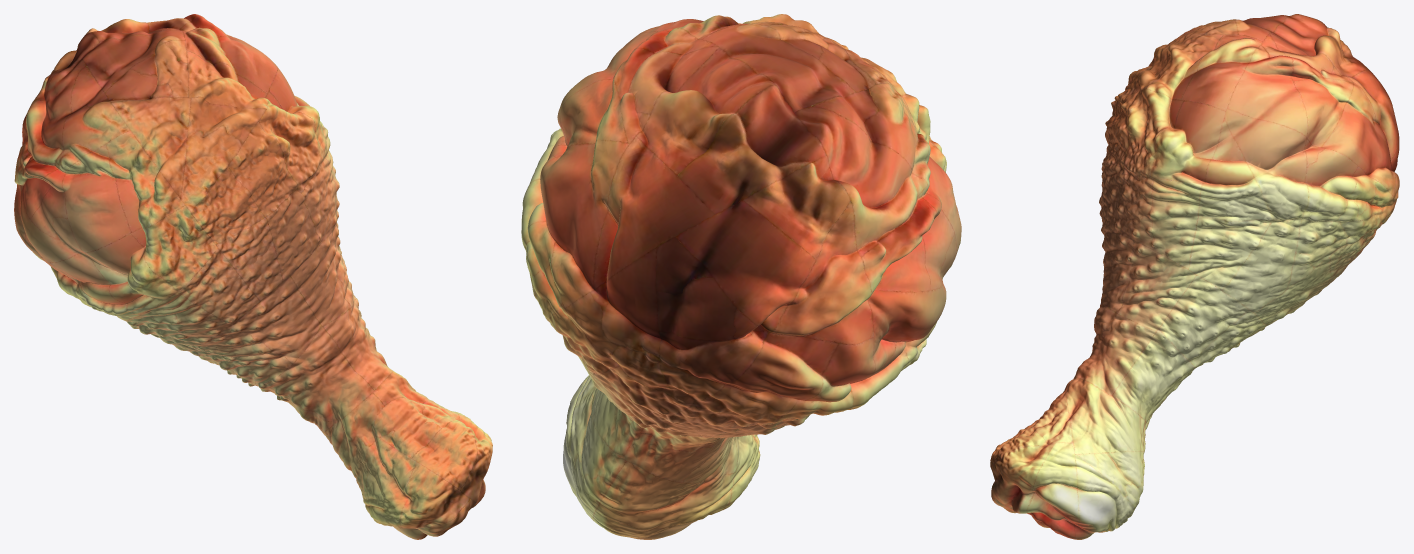
The model's file is chicken.glb.
3 renders of one model, left to right at view 1: azimuth 30°, elevation 25°; view 2: azimuth 150°, elevation 25°; view 3: azimuth 270°, elevation 25°, orthographic. The views are drawn at different scales.
Visible parts, largest first — view 1: raw; view 2: raw; view 3: raw.
Boxes of the visible parts, box(x1,y1,x2,y2) form: raw: box(14, 14, 492, 539); raw: box(521, 14, 961, 539); raw: box(990, 14, 1399, 539).
Bounding box in the file's own units: 1.96 × 2.47 × 2.08.
1 material, 1 textured.
